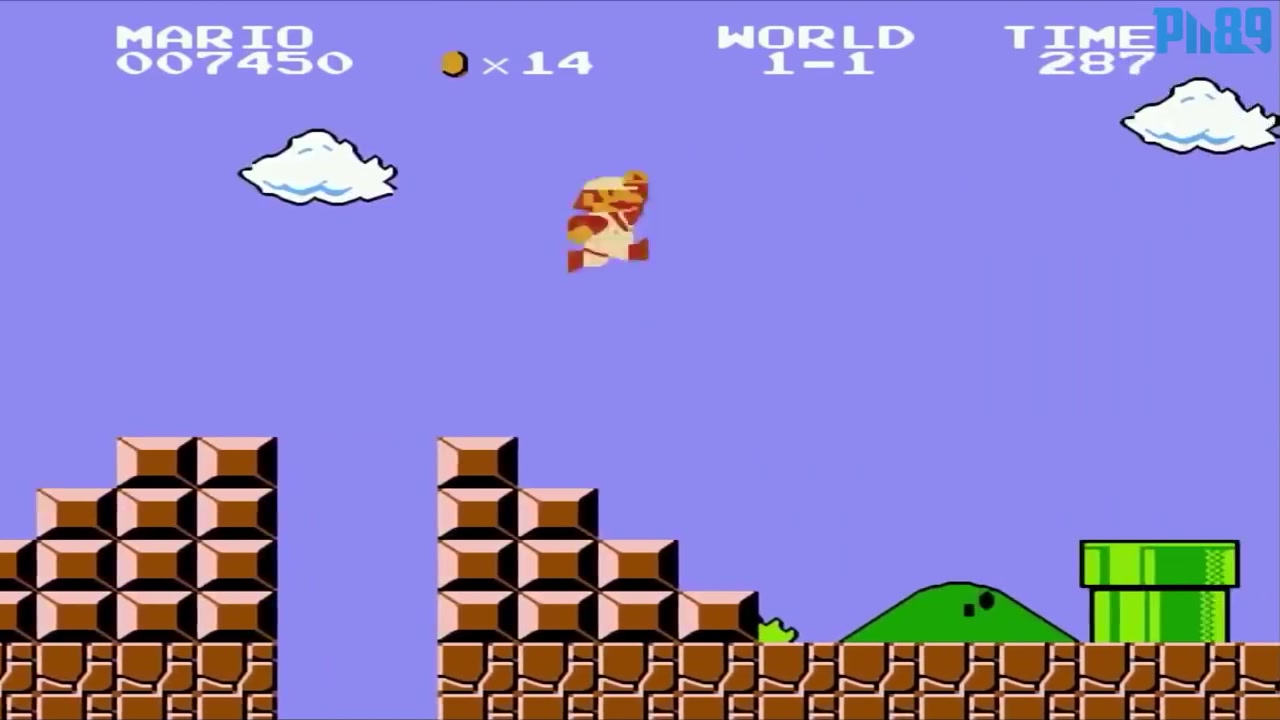mario: (561, 172, 668, 276)
